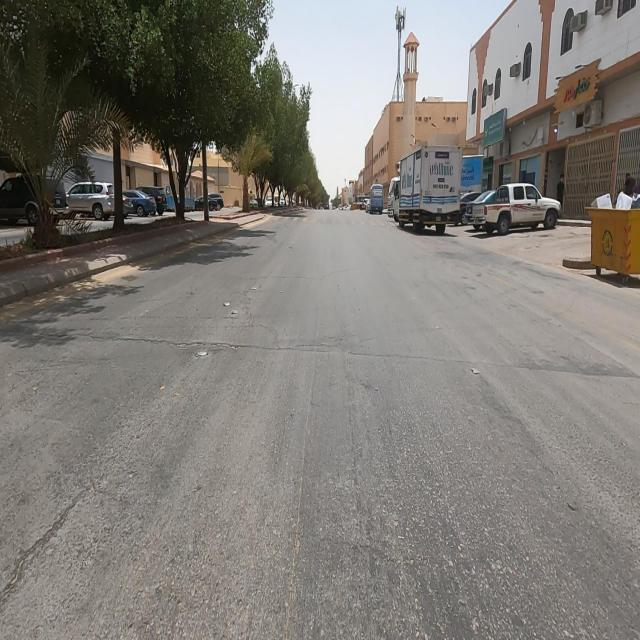debris: (554, 148, 640, 258)
